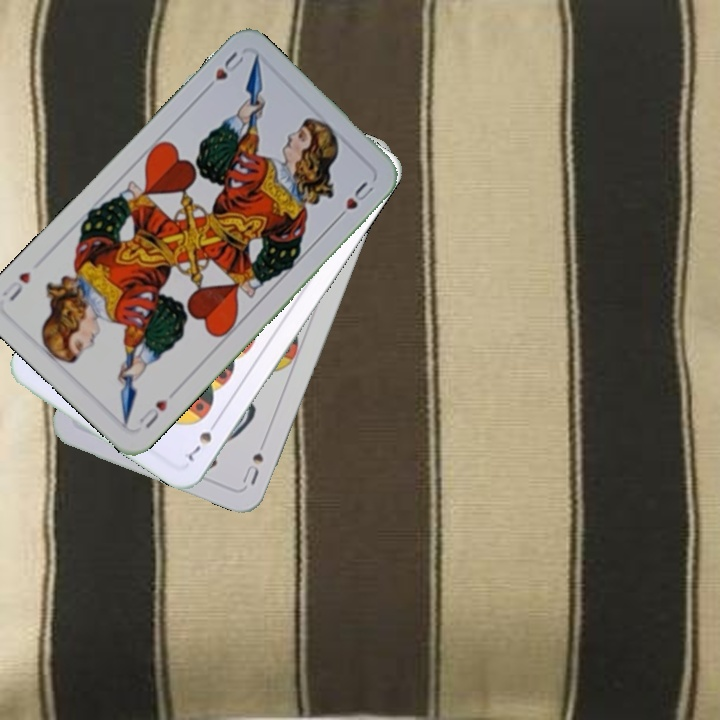HU: (200, 47, 247, 95), (134, 386, 179, 431)
S7: (181, 415, 222, 464)
SU: (238, 449, 266, 488)
